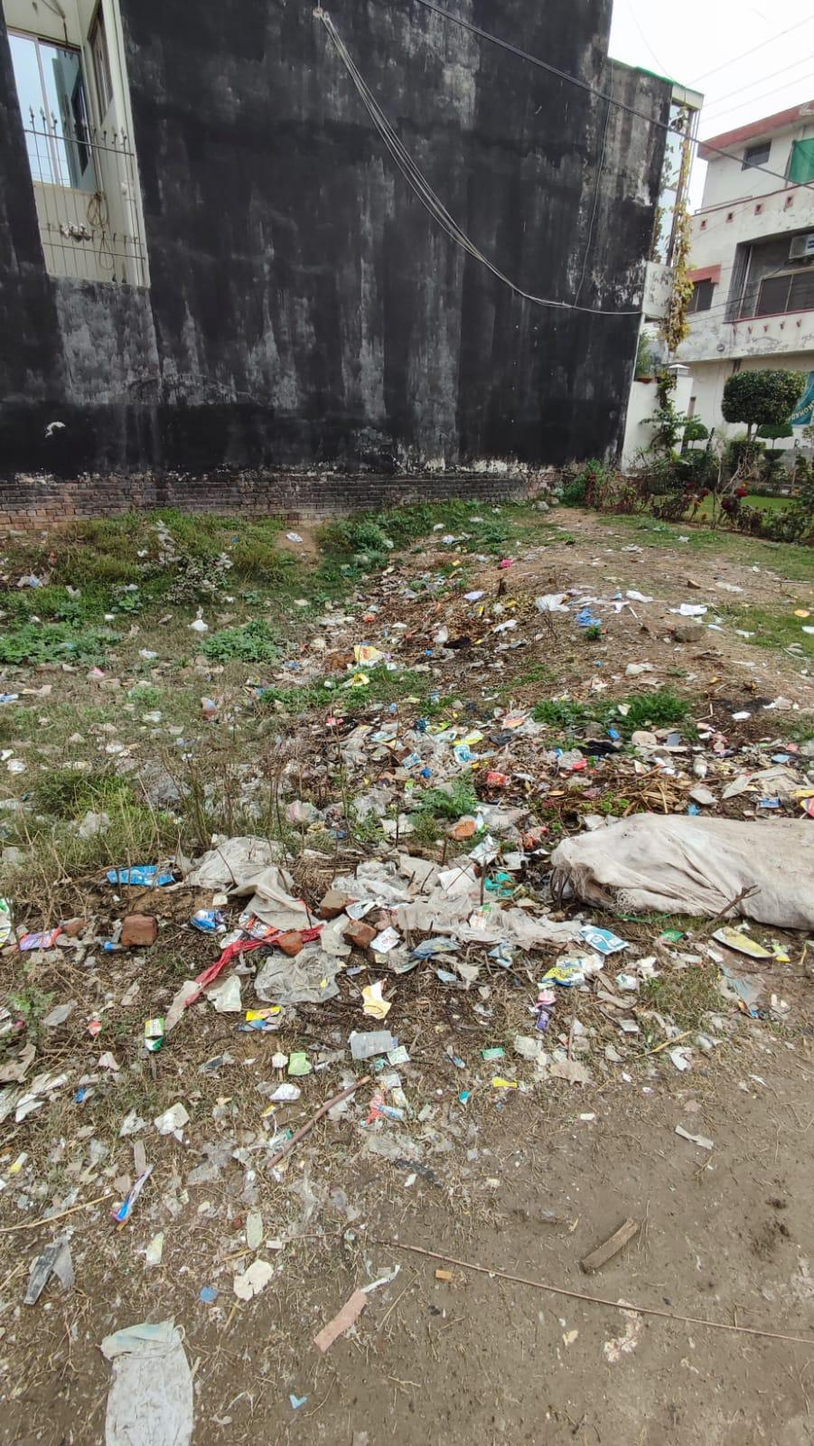garbage: (238, 648, 782, 1037)
